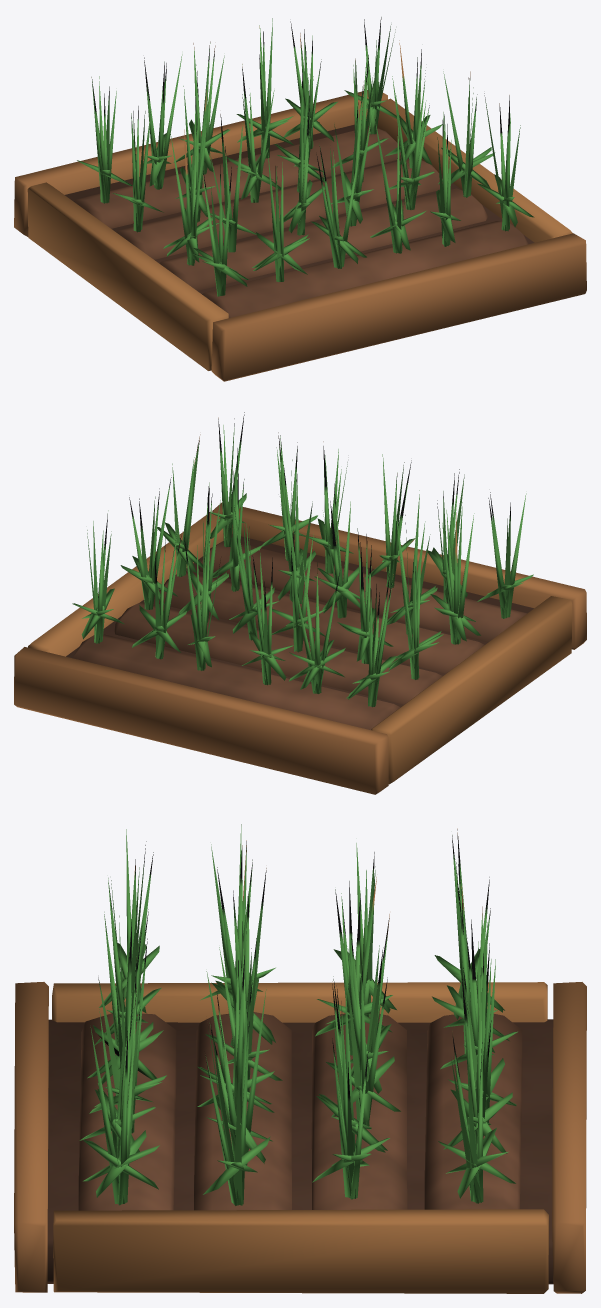
The model's file is crop_wheat_2.glb.
The picture shows the model from 3 angles, top to bottom: view 1: azimuth 30°, elevation 25°; view 2: azimuth 150°, elevation 25°; view 3: azimuth 270°, elevation 25°; orthographic projection. The views are drawn at different scales.
Visible parts, largest first — view 1: bed; view 2: bed; view 3: bed.
Boxes of the visible parts, <box> form: bed: <box>14,17,586,381</box>; bed: <box>14,412,586,794</box>; bed: <box>14,824,586,1293</box>.
Size of the model in its own units: 1.49 by 0.7258 by 1.49.
Materials: 1 (1 with a texture image).
